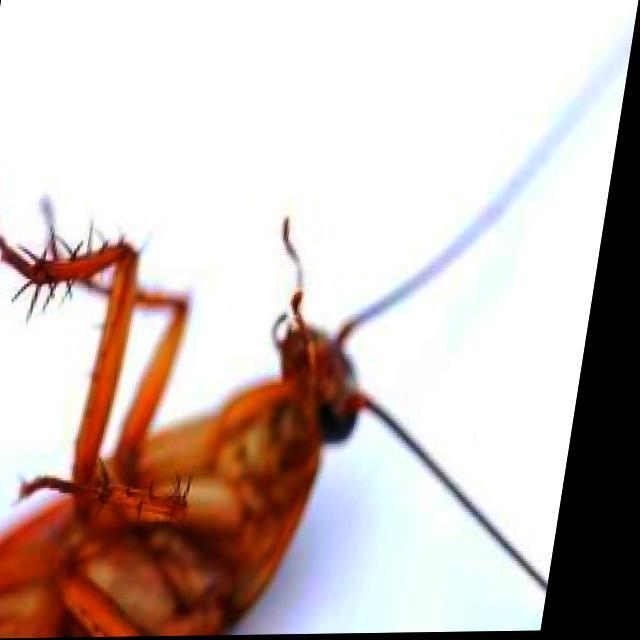cockroach: (0, 120, 430, 640)
